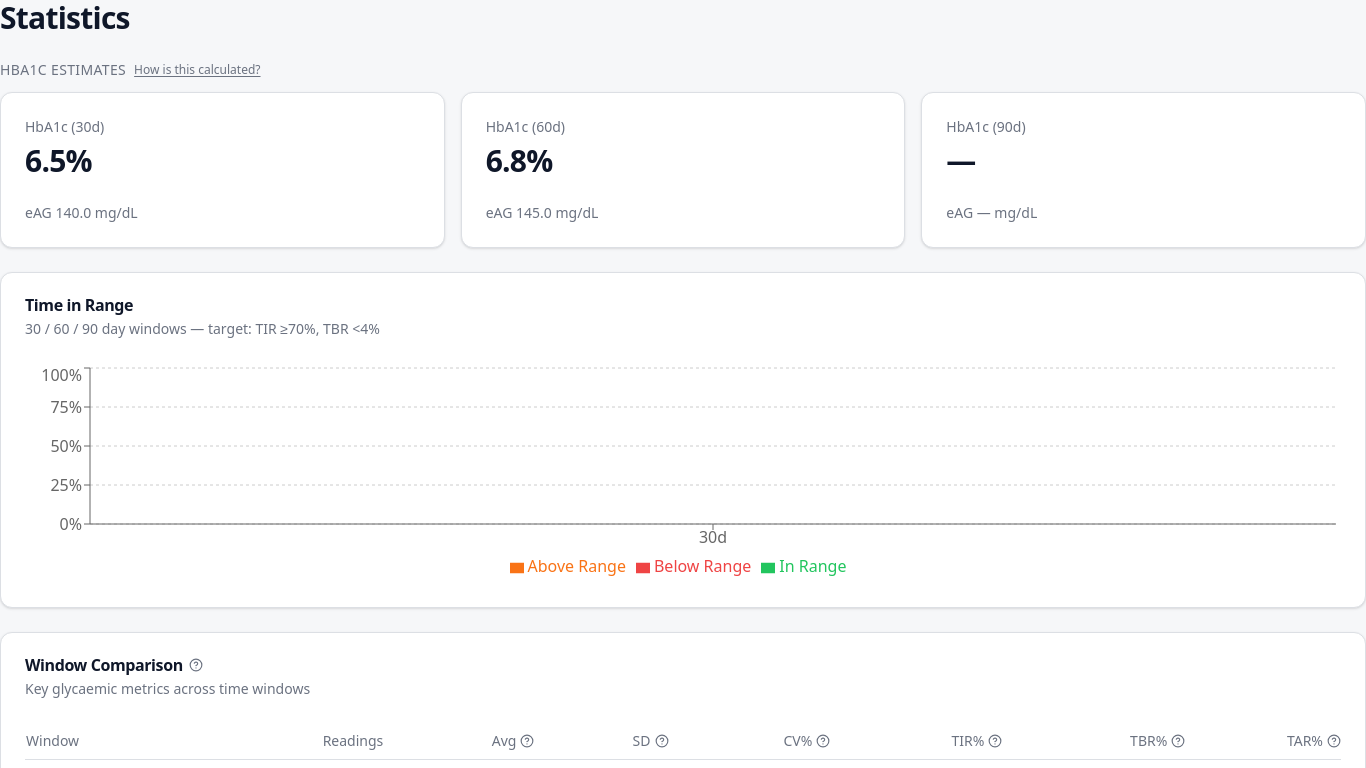
Statistics — help elements (#87) › opens HbA1c sheet with formula
Click the button "How is this calculated?": x=197, y=70 [134,62,260,78]
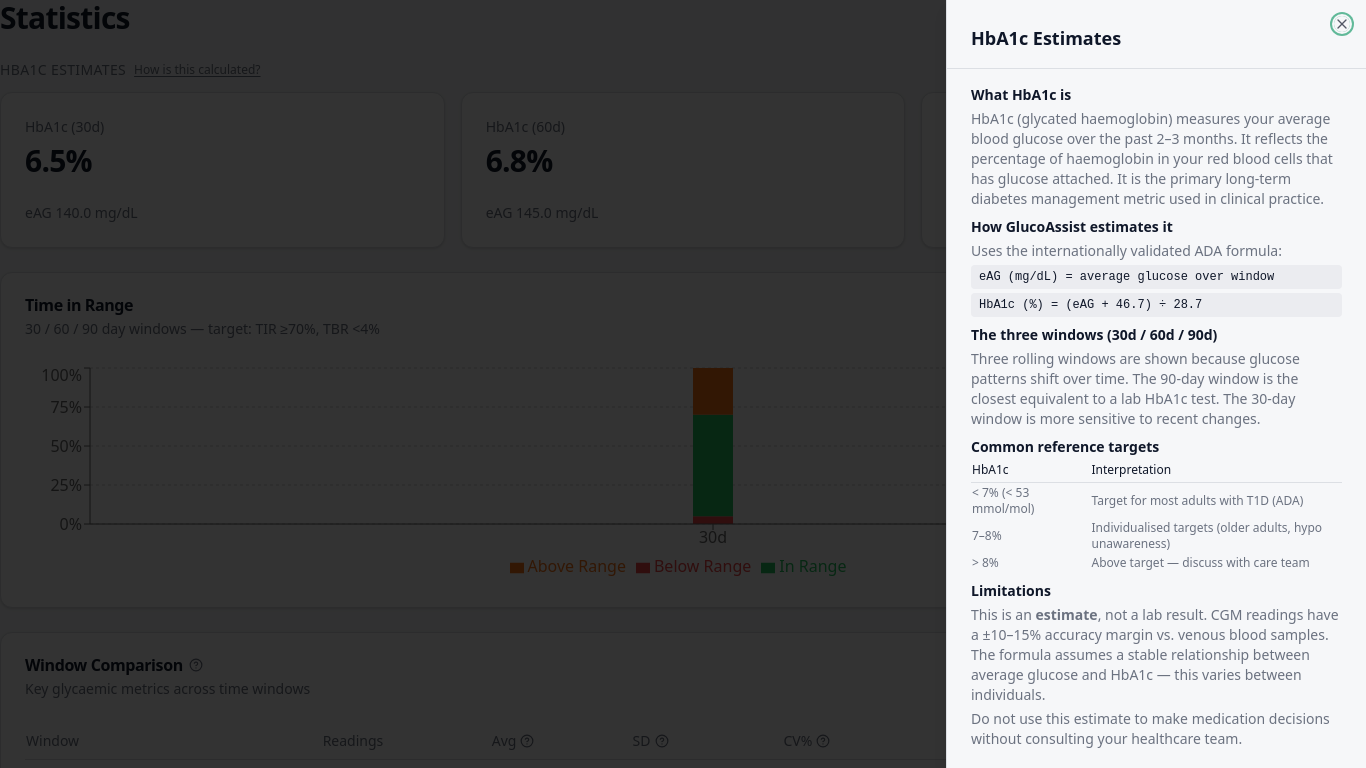
Check: the heading "HbA1c Estimates" is shown, box [971,26,1121,50]
Check: the heading "What HbA1c is" is shown, box [971,85,1071,104]
